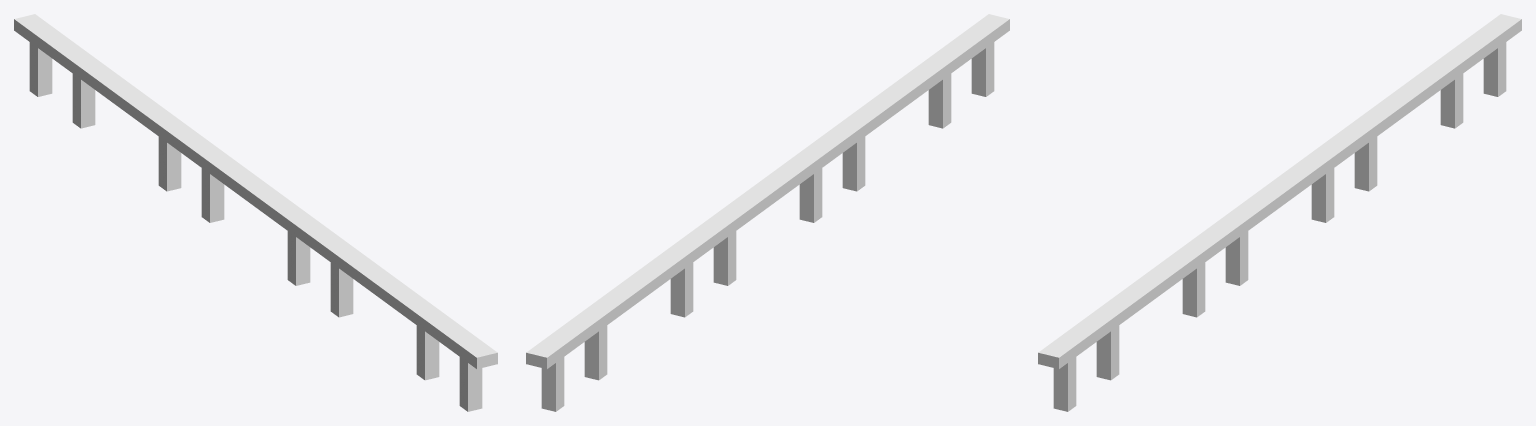
The model's file is bridge_rail.fbx.
3 views of the same model, side by side, from view 1: azimuth 30°, elevation 25°; view 2: azimuth 150°, elevation 25°; view 3: azimuth 330°, elevation 25° (orthographic).
Parts seen in each view (by area): view 1: Bridge_rail; view 2: Bridge_rail; view 3: Bridge_rail.
Boxes of the visible parts, box(x1,y1,x2,y2) form: Bridge_rail: box(14, 14, 497, 411); Bridge_rail: box(526, 14, 1009, 411); Bridge_rail: box(1038, 14, 1521, 411).
Size of the model in its own units: 0.2858 by 0.8302 by 10.9.
